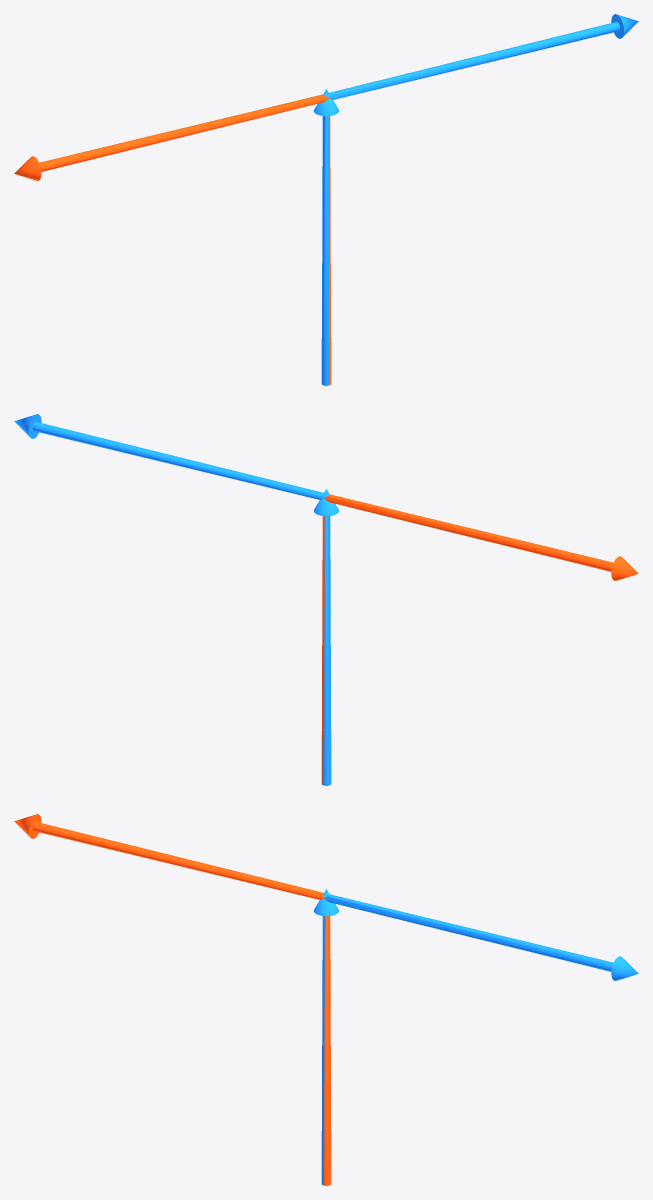
The model's file is three_way_valve_flow.glb.
The picture shows the model from 3 angles, top to bottom: view 1: azimuth 30°, elevation 25°; view 2: azimuth 150°, elevation 25°; view 3: azimuth 330°, elevation 25°; orthographic projection.
Parts seen in each view (by area): view 1: to_A, to_B; view 2: to_A, to_B; view 3: to_B, to_A.
Part boxes in pixels (x1,y1,x2,y2): to_A: (314,14,638,385); to_B: (14,94,331,385); to_A: (14,414,338,785); to_B: (321,494,638,784); to_B: (14,814,331,1185); to_A: (314,889,638,1185).
Size of the model in its own units: 1.03 by 0.4682 by 0.0364.
